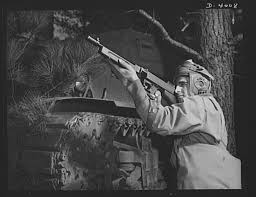gun: (82, 33, 177, 110)
